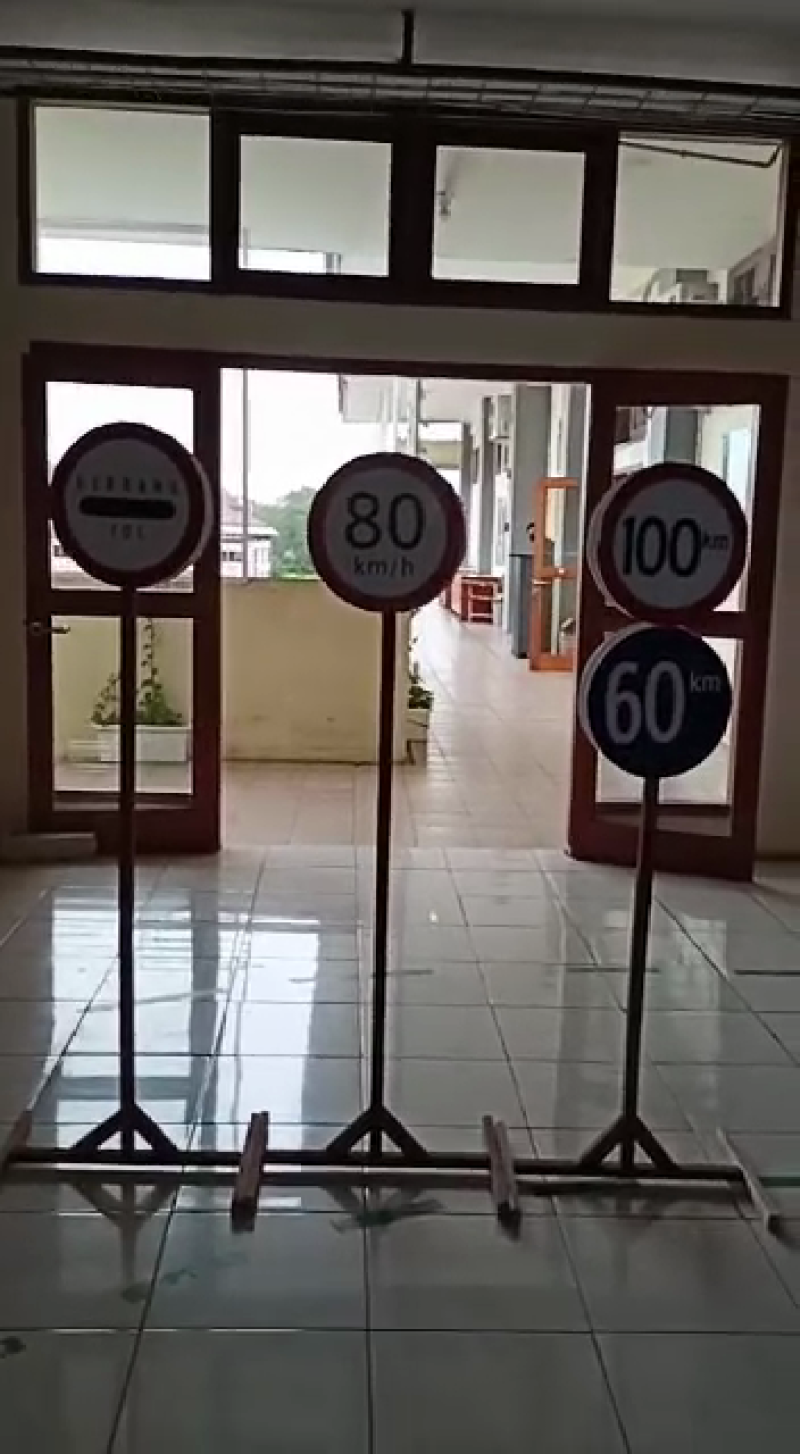batas maksimal 100kmperjam minimal 60kmperjam: (579, 459, 753, 777)
batas maksimal 80kmperjam: (305, 437, 468, 627)
gerbang tol: (46, 424, 218, 596)
